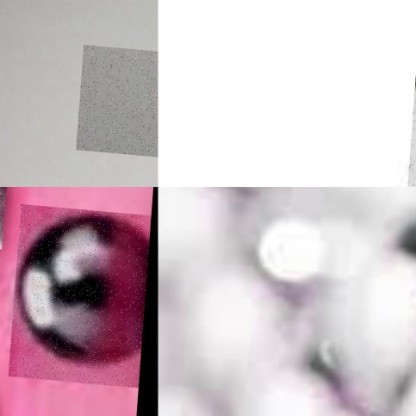ironball: (12, 198, 153, 379), (78, 40, 158, 153)
